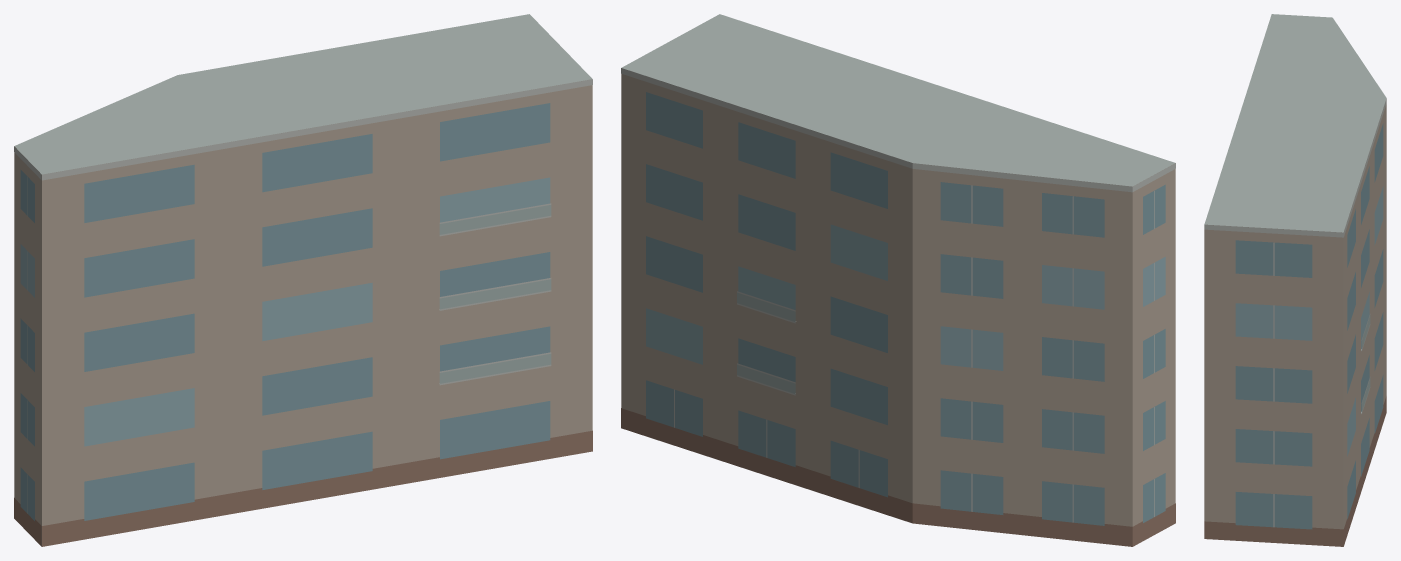
File: residential-2d636a21-281d-40b2-b44b-cd3d87f562f1.glb
3 renders of one model, left to right at view 1: azimuth 30°, elevation 25°; view 2: azimuth 150°, elevation 25°; view 3: azimuth 270°, elevation 25°, orthographic. The views are drawn at different scales.
Visible parts, largest first — view 1: residential-2d636a21-281d-40b2-b44b-cd3d87f562f1.tmp; view 2: residential-2d636a21-281d-40b2-b44b-cd3d87f562f1.tmp; view 3: residential-2d636a21-281d-40b2-b44b-cd3d87f562f1.tmp.
Part boxes in pixels (bbox=[...]): residential-2d636a21-281d-40b2-b44b-cd3d87f562f1.tmp: bbox=[14, 14, 592, 546]; residential-2d636a21-281d-40b2-b44b-cd3d87f562f1.tmp: bbox=[621, 14, 1175, 546]; residential-2d636a21-281d-40b2-b44b-cd3d87f562f1.tmp: bbox=[1204, 14, 1386, 546].
Size of the model in its own units: 22.75 by 15.25 by 8.03.
